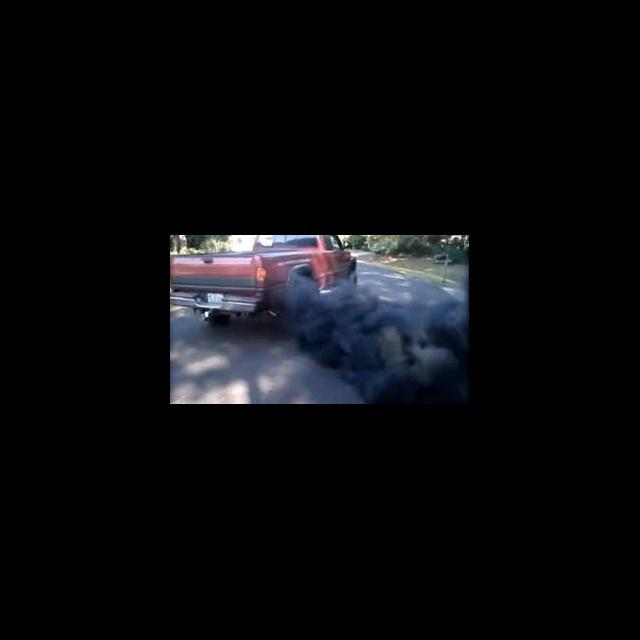Smoke: (294, 284, 468, 404)
